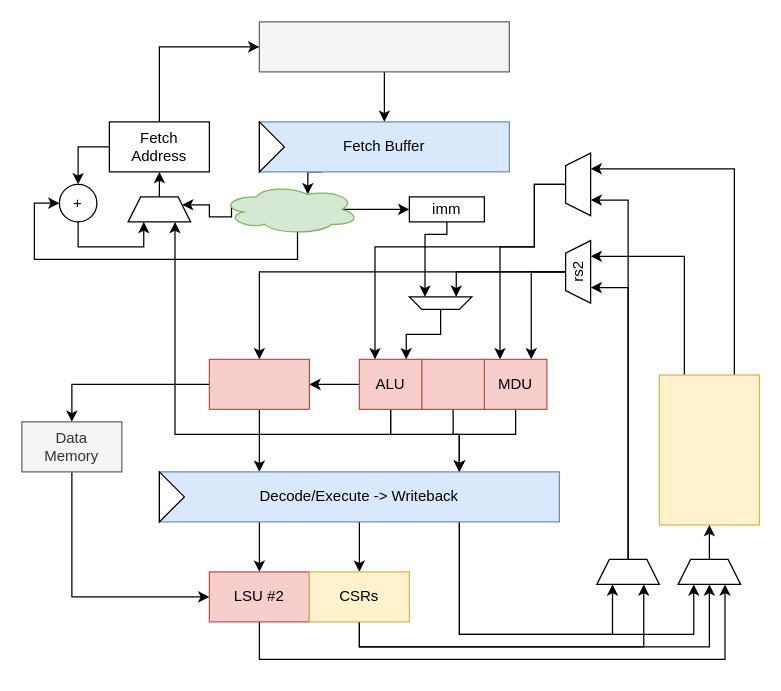
Some shapes in this 781 by 691 pixel diagram are drawn without their labels. The shapes that lost their labels are listed below. From the top down, each one's centre as x and y in pixels, then its label:
the point at 383,46: Instruction Memory
the point at 577,184: rs1
the point at 290,208: Decode
the point at 258,383: LSU #1
the point at 452,383: CFU
the point at 708,449: GPRs
